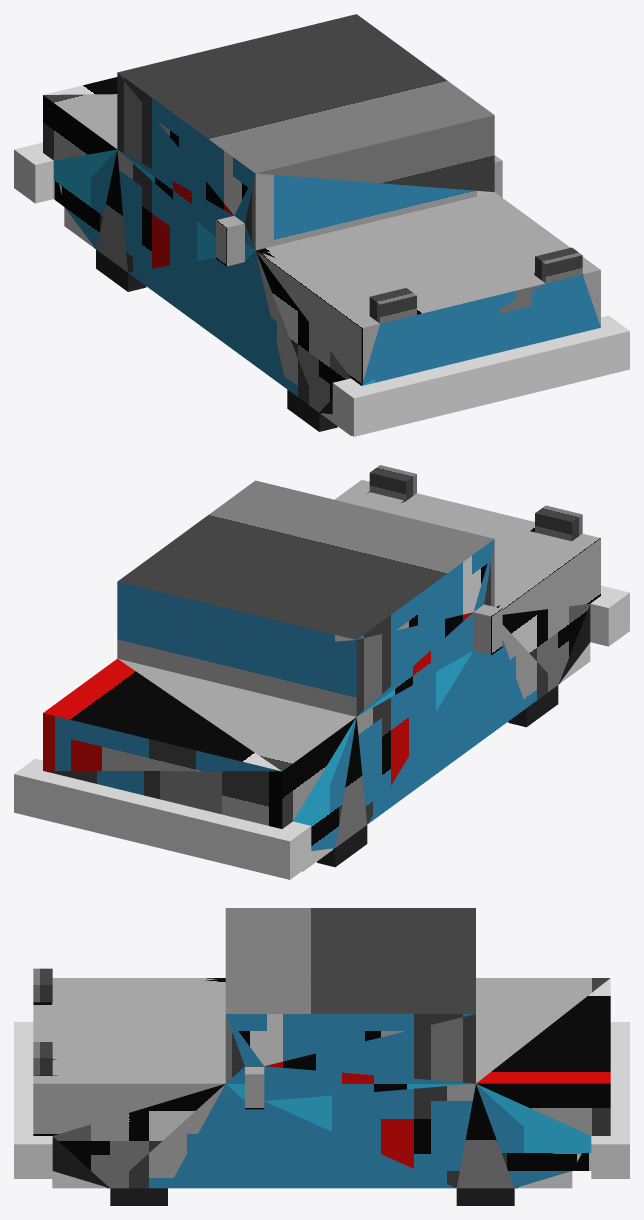
Rendered from veh_car1.dae.
3 renders of one model, top to bottom at view 1: azimuth 30°, elevation 25°; view 2: azimuth 150°, elevation 25°; view 3: azimuth 270°, elevation 25°, orthographic. The views are drawn at different scales.
Parts seen in each view (by area): view 1: veh_car1; view 2: veh_car1; view 3: veh_car1.
Part boxes in pixels (x1,y1,x2,y2): veh_car1: (14,14,629,436); veh_car1: (14,465,629,879); veh_car1: (14,908,629,1205).
Size of the model in its own units: 1.5 by 3.2 by 1.1.
Materials: 1 (1 with a texture image).
